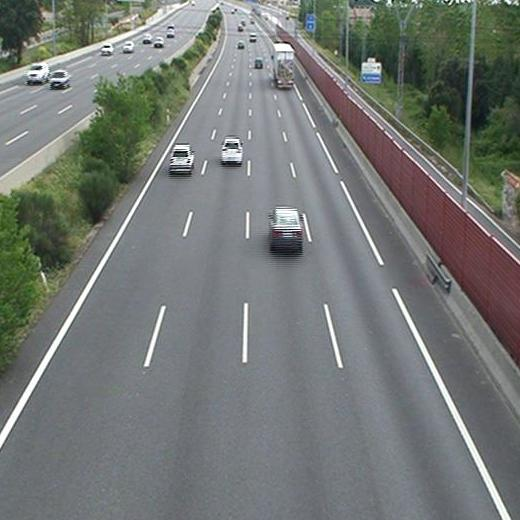car: (269, 207, 302, 242), (169, 145, 195, 171), (220, 138, 243, 161), (253, 58, 264, 68)
truck: (273, 44, 295, 87)
